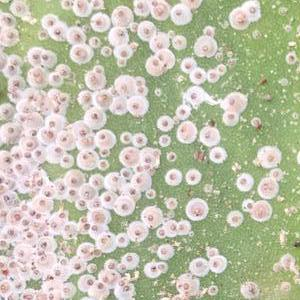Femea: (80, 276, 110, 299), (49, 211, 70, 237), (44, 281, 73, 299), (10, 212, 33, 233), (0, 225, 22, 245), (116, 189, 135, 212), (110, 6, 128, 26), (76, 217, 99, 232), (22, 142, 41, 160), (30, 249, 49, 267), (91, 91, 112, 106), (106, 172, 125, 188), (222, 94, 240, 110), (79, 150, 95, 168), (91, 15, 110, 30), (145, 56, 160, 74), (117, 81, 136, 95), (69, 28, 88, 42), (30, 51, 50, 64), (13, 248, 30, 263), (44, 18, 58, 36), (198, 38, 212, 56), (111, 29, 128, 43), (244, 2, 261, 16), (85, 111, 103, 124), (171, 9, 189, 22), (232, 11, 246, 27), (100, 193, 116, 207), (78, 186, 95, 199), (72, 47, 90, 59), (155, 52, 173, 64), (129, 101, 144, 115), (10, 279, 25, 293), (157, 116, 173, 129), (133, 0, 149, 13), (200, 130, 217, 142), (47, 146, 62, 159), (0, 282, 13, 297), (151, 4, 166, 16), (223, 113, 238, 125), (191, 70, 204, 83), (172, 37, 184, 51), (140, 26, 153, 38), (117, 46, 130, 58), (42, 129, 54, 142), (46, 117, 57, 131), (63, 186, 77, 197), (38, 240, 52, 251), (181, 58, 193, 70), (41, 187, 53, 199), (153, 37, 166, 48), (65, 176, 79, 186), (36, 200, 49, 210), (90, 38, 101, 48), (55, 181, 63, 194), (129, 22, 139, 32), (206, 70, 217, 79), (101, 45, 111, 54)
